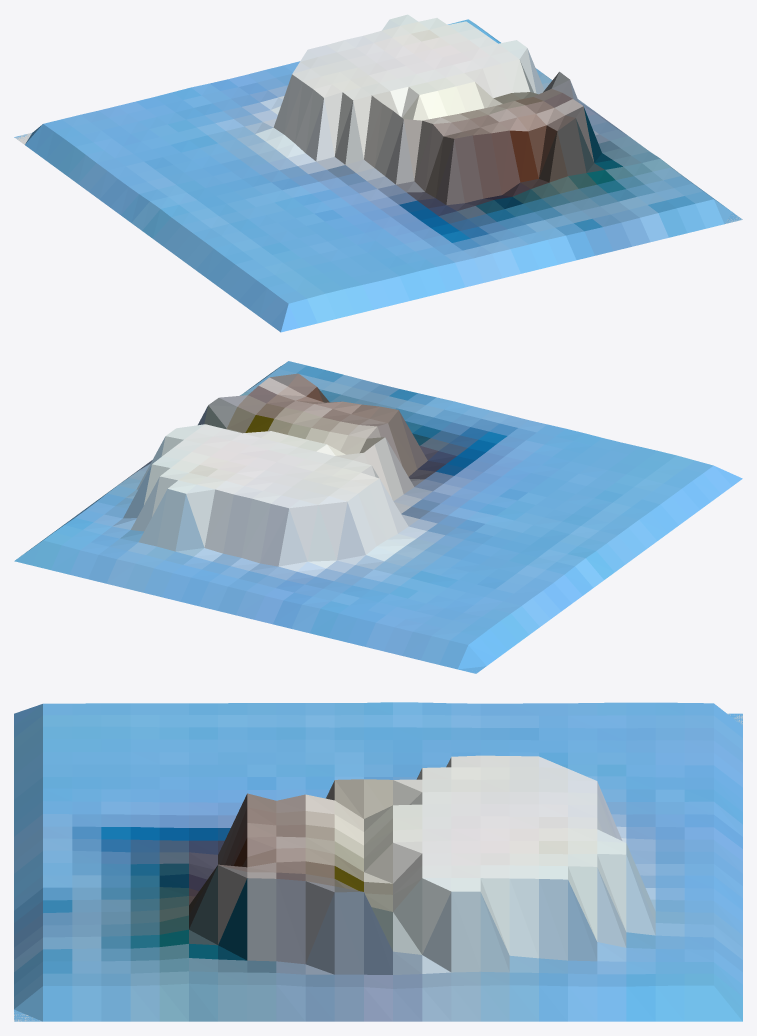
3 renders of one model, top to bottom at view 1: azimuth 30°, elevation 25°; view 2: azimuth 150°, elevation 25°; view 3: azimuth 270°, elevation 25°, orthographic. The views are drawn at different scales.
Parts seen in each view (by area): view 1: imagetostl_mesh0; view 2: imagetostl_mesh0; view 3: imagetostl_mesh0.
Part boxes in pixels (x1,y1,x2,y2): imagetostl_mesh0: (14,14,742,332); imagetostl_mesh0: (14,361,742,673); imagetostl_mesh0: (14,702,742,1021).
Size of the model in its own units: 10417 by 1500 by 10417.
